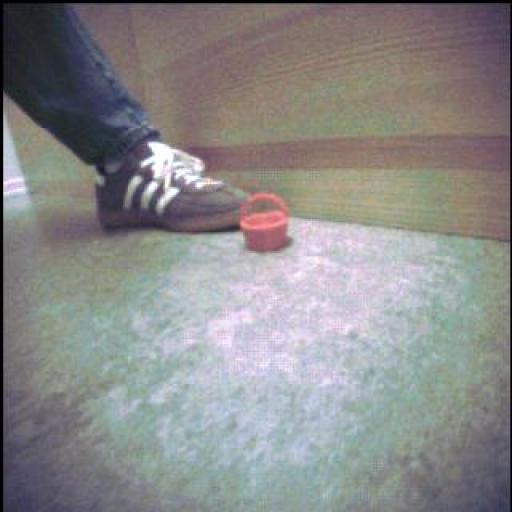Bucket: (241, 195, 289, 252)
